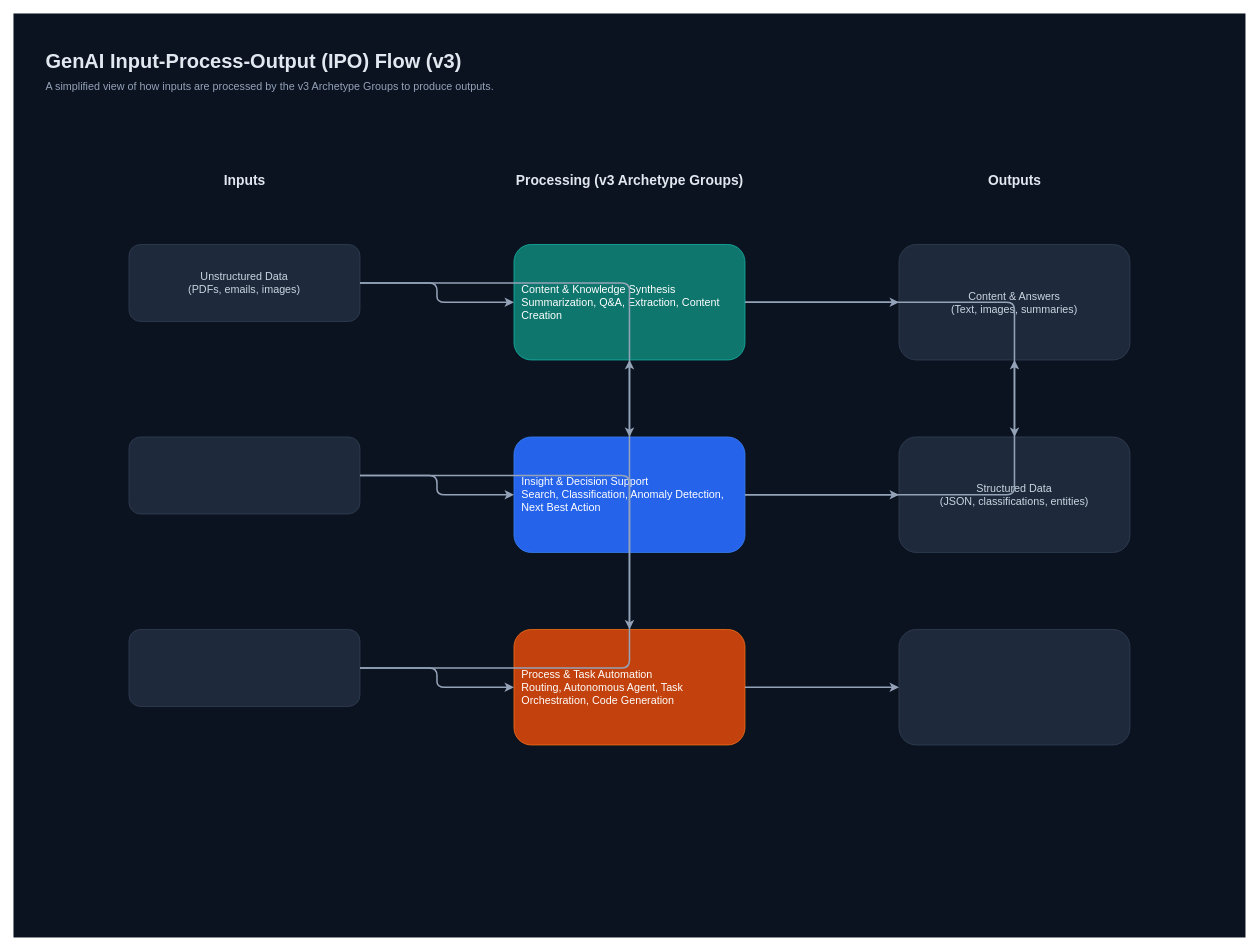
Image size: 1258x950. Some labels were removed from this diagram. The box of each missing label's shape, as (x1, y1, x2, y2) in pixels:
Actions & Side Effects (API calls, system changes, audit trails): (898, 629, 1130, 745)
Structured Data (Databases, APIs): (128, 436, 360, 514)
User Prompt / Goal: (128, 629, 360, 706)
